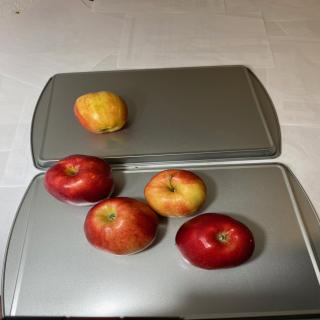Apple: (175, 212, 255, 270), (83, 196, 159, 256), (43, 154, 115, 206), (144, 169, 206, 218), (73, 91, 128, 134)
